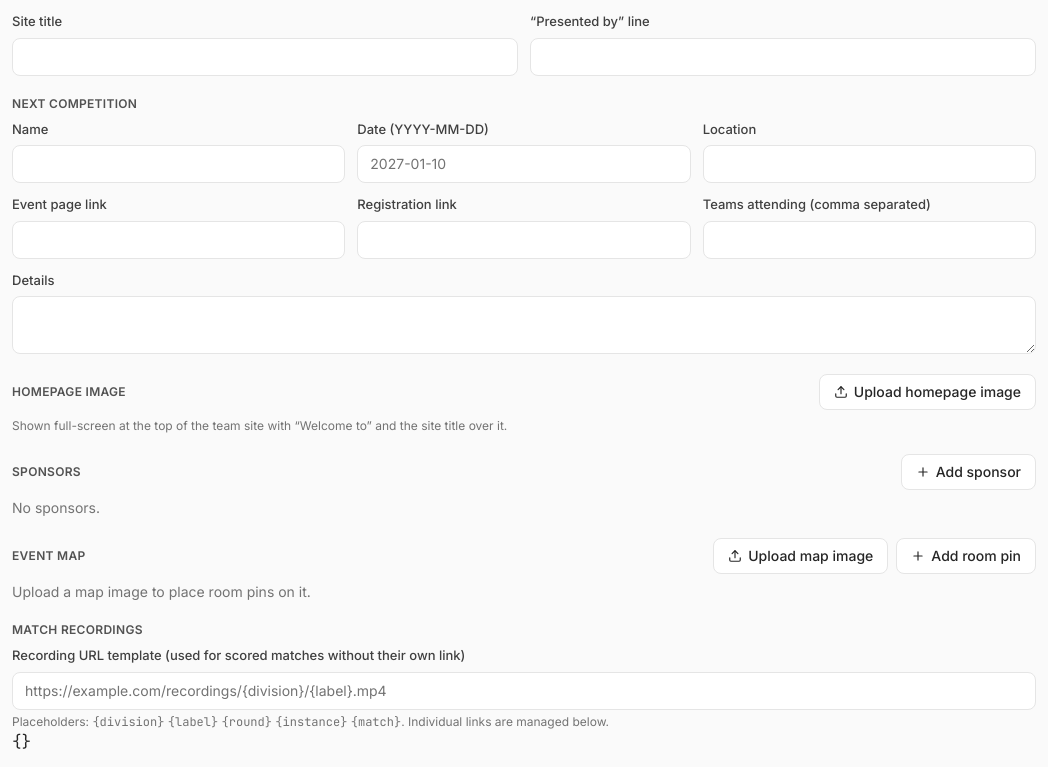
SiteConfigEditor › lists problems for unsafe links and disables inputs when read-only
Later steps or results of the test are not shown.
Type "javascript:alert(1)" into the field named "Event page link" at (179, 240), box [12,220,345,258]
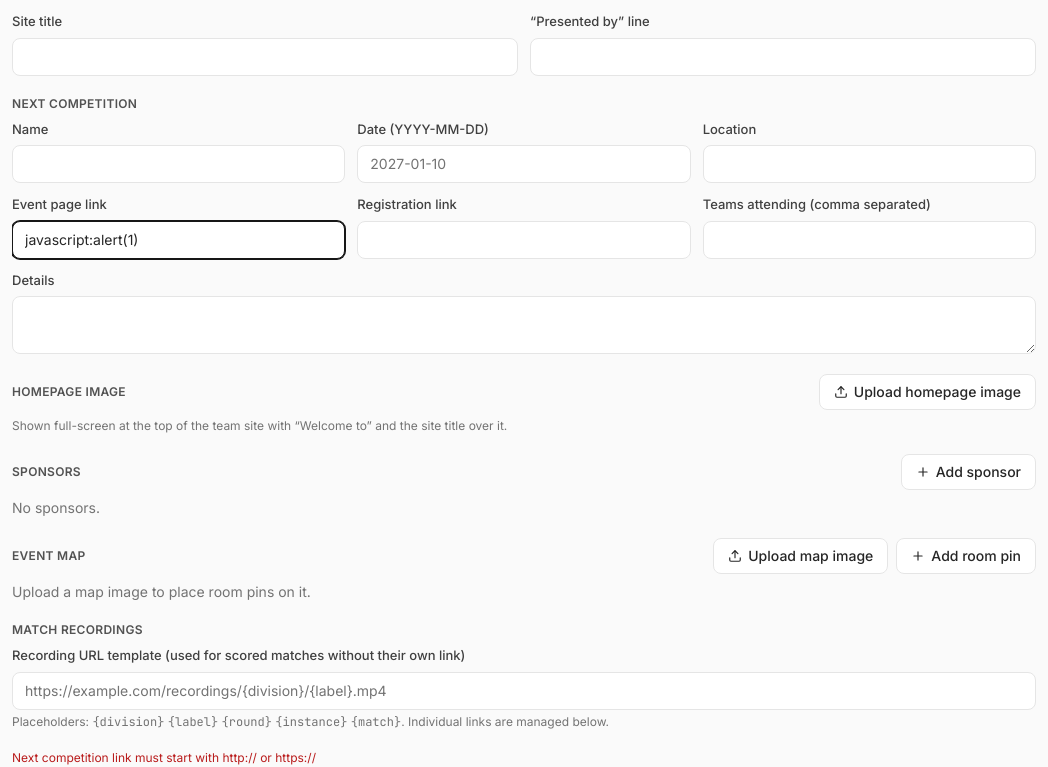
Now the list item "Next competition link must start with http:// or https://" is shown, box [12,750,316,764]
